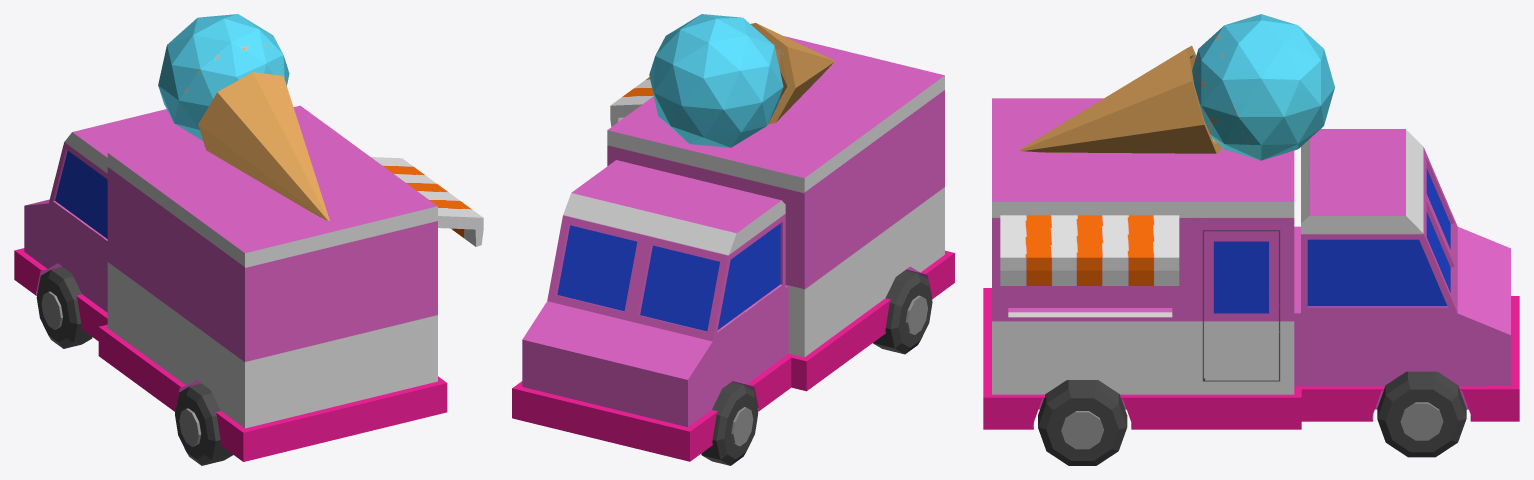
The model's file is icecreamtruck.fbx.
3 views of the same model, side by side, from view 1: azimuth 30°, elevation 25°; view 2: azimuth 150°, elevation 25°; view 3: azimuth 270°, elevation 25° (orthographic). The views are drawn at different scales.
Visible parts, largest first — view 1: icecream_truck; view 2: icecream_truck; view 3: icecream_truck.
Boxes of the visible parts, bbox=[...] form: icecream_truck: bbox=[14, 14, 483, 465]; icecream_truck: bbox=[512, 14, 954, 465]; icecream_truck: bbox=[983, 14, 1519, 465].
Size of the model in its own units: 653 by 865 by 1073.
1 material, 1 textured.
